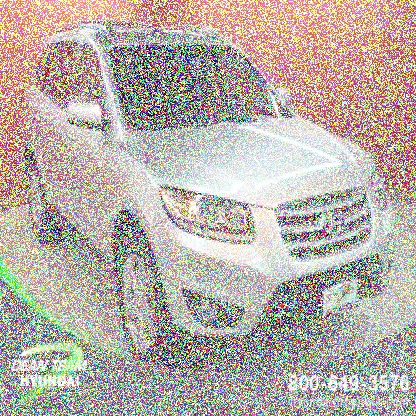Vehicle: (19, 21, 403, 371)
